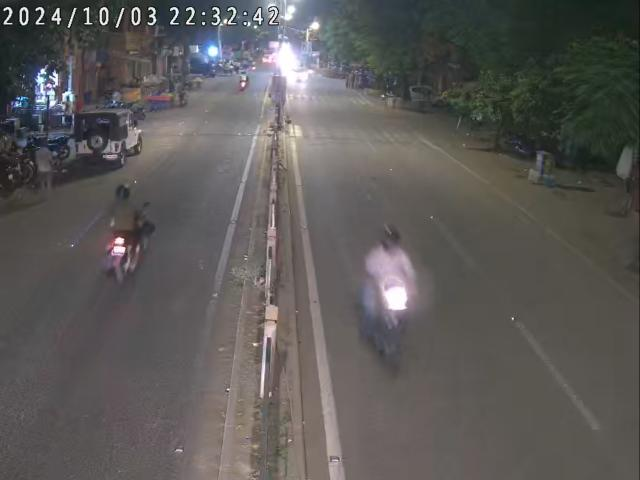car: (79, 104, 145, 168)
motorbike-rider: (360, 226, 418, 372), (104, 180, 156, 285)
